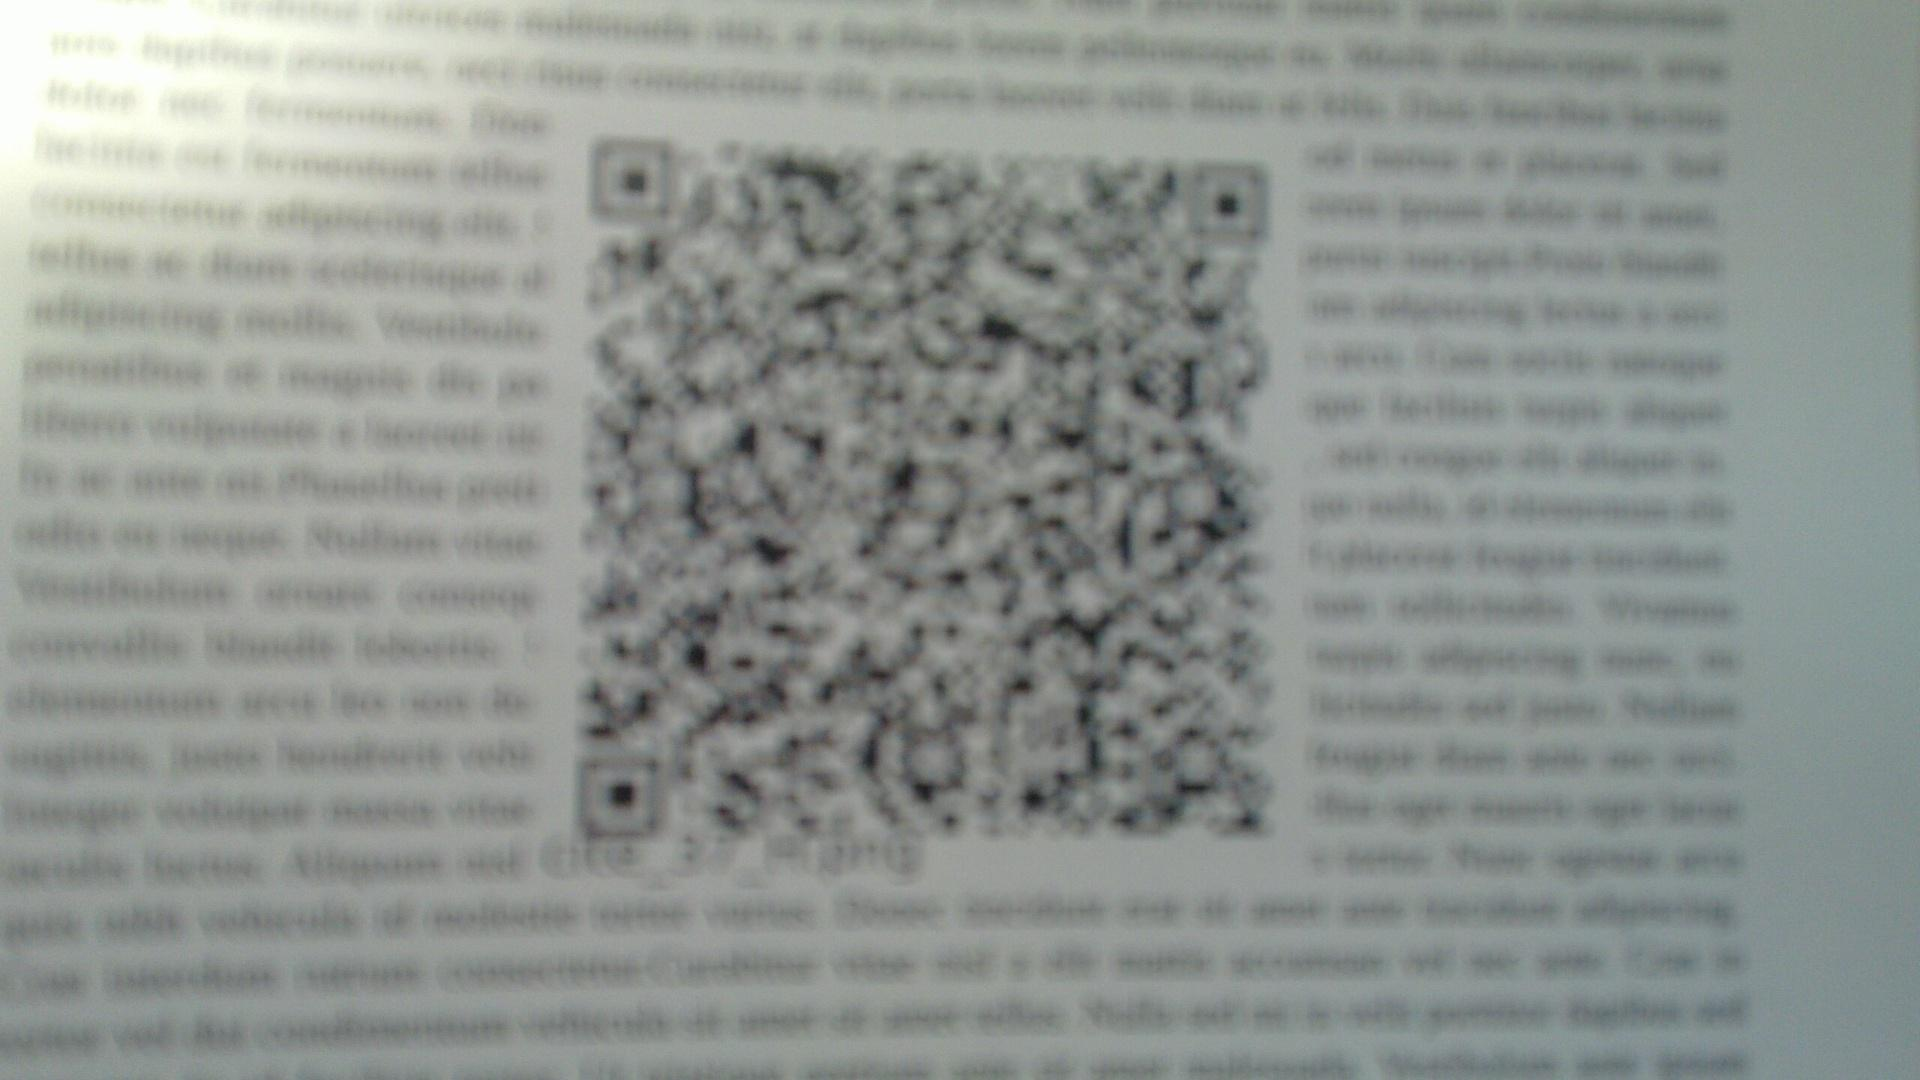Finder pattern: (583, 131, 684, 225), (568, 753, 665, 845), (1188, 154, 1279, 247)
